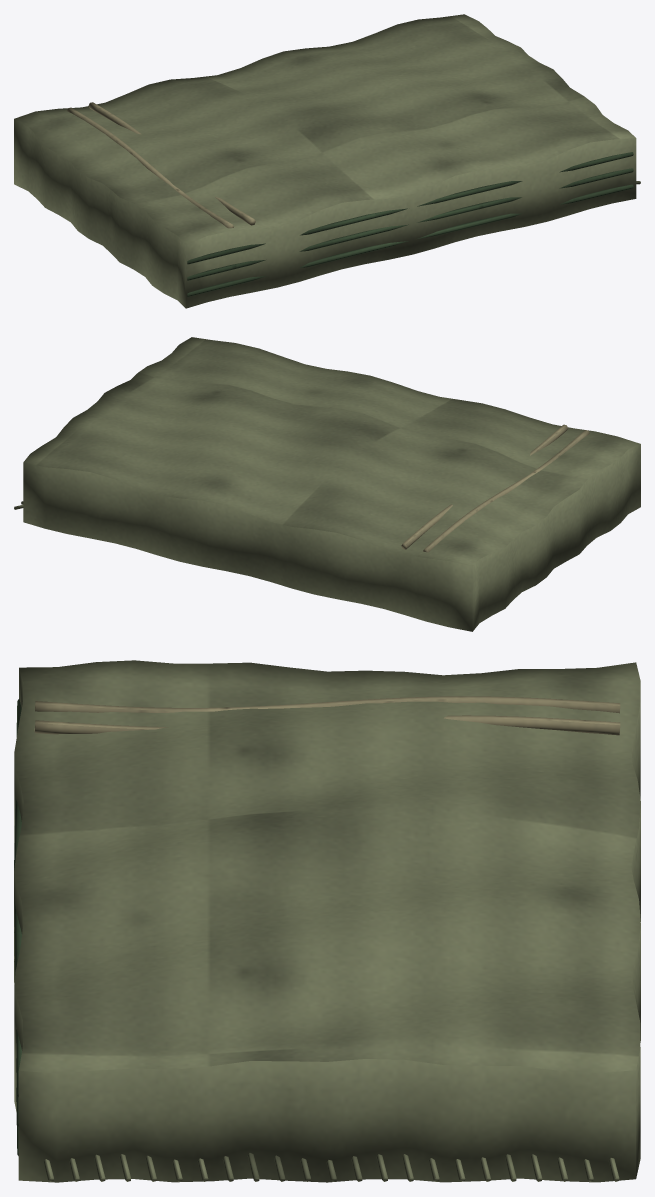
File: prop_folded_hand_towel.glb
The picture shows the model from 3 angles, top to bottom: view 1: azimuth 30°, elevation 25°; view 2: azimuth 150°, elevation 25°; view 3: azimuth 270°, elevation 25°; orthographic projection. The views are drawn at different scales.
Visible parts, largest first — view 1: prop_folded_hand_towel; view 2: prop_folded_hand_towel; view 3: prop_folded_hand_towel.
Boxes of the visible parts, box(x1,y1,x2,y2) form: prop_folded_hand_towel: box(14, 14, 640, 308); prop_folded_hand_towel: box(14, 337, 640, 631); prop_folded_hand_towel: box(14, 660, 640, 1182).
Size of the model in its own units: 0.2999 by 0.0488 by 0.193.
Materials: 3 (3 with a texture image).
